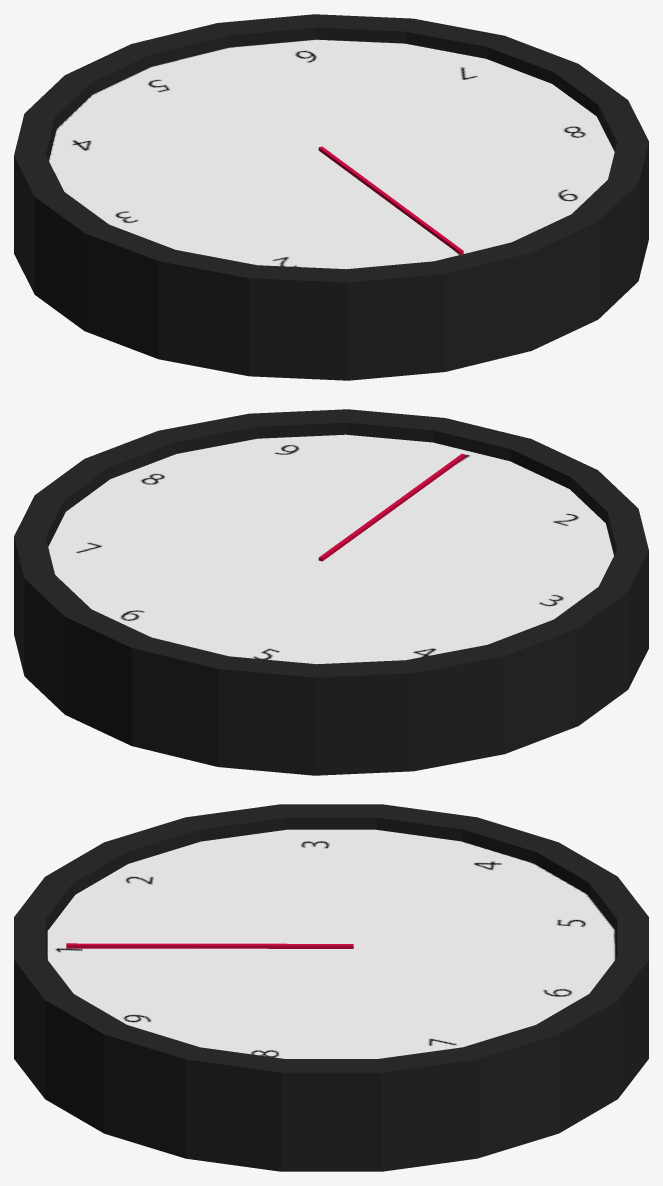
The model's file is tcp_timer_model.fbx.
3 views of the same model, one above another, from view 1: azimuth 30°, elevation 25°; view 2: azimuth 150°, elevation 25°; view 3: azimuth 270°, elevation 25° (orthographic).
Visible parts, largest first — view 1: clock_face2, clock_hand; view 2: clock_face2, clock_hand; view 3: clock_face2, clock_hand.
Boxes of the visible parts, x1=… form: clock_face2: x1=14, y1=14, x2=648, y2=380; clock_hand: x1=318, y1=146, x2=463, y2=254; clock_face2: x1=14, y1=409, x2=648, y2=775; clock_hand: x1=318, y1=453, x2=465, y2=561; clock_face2: x1=14, y1=804, x2=648, y2=1171; clock_hand: x1=66, y1=943, x2=353, y2=948.
Size of the model in its own units: 2.21 by 0.381 by 2.21.
Materials: 3 (1 with a texture image).
